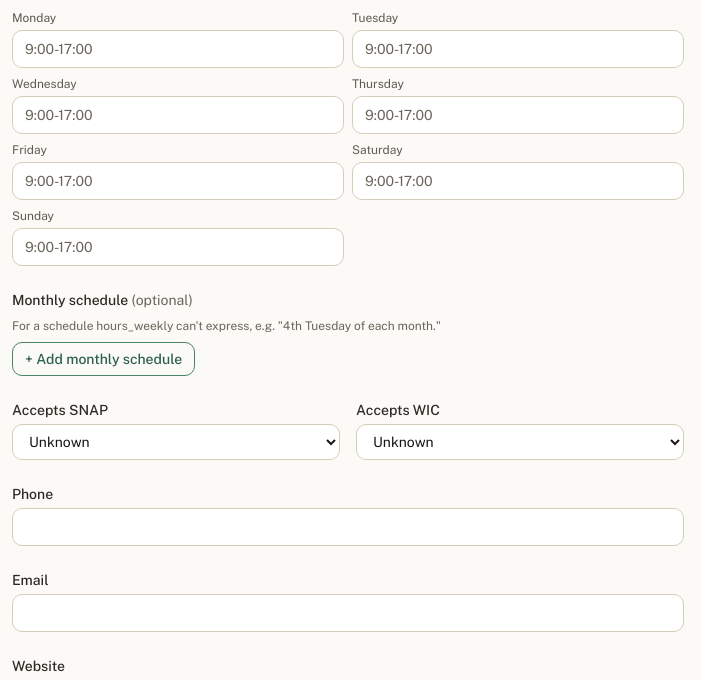
Test: AddVenueForm — monthly schedule fieldset › picking 'fixed day of the month' reveals a day-of-month input instead
(page scrolled)
Click the button "+ Add monthly schedule".
click(104, 359)  # box [12,342,195,376]
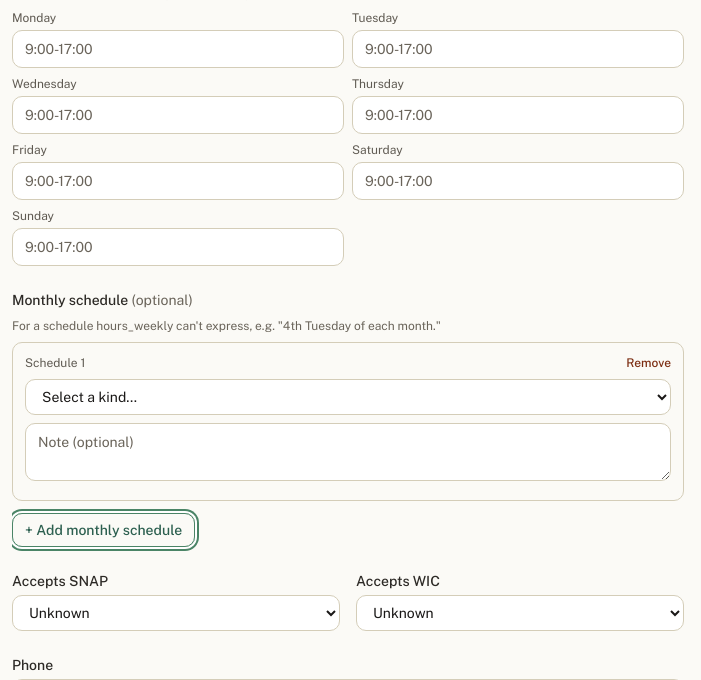
Select "A fixed day of the month (e.g. the 15th)" in the dropdown labelled "Schedule 1" at {"x": 348, "y": 397}, box [25,379,671,415]
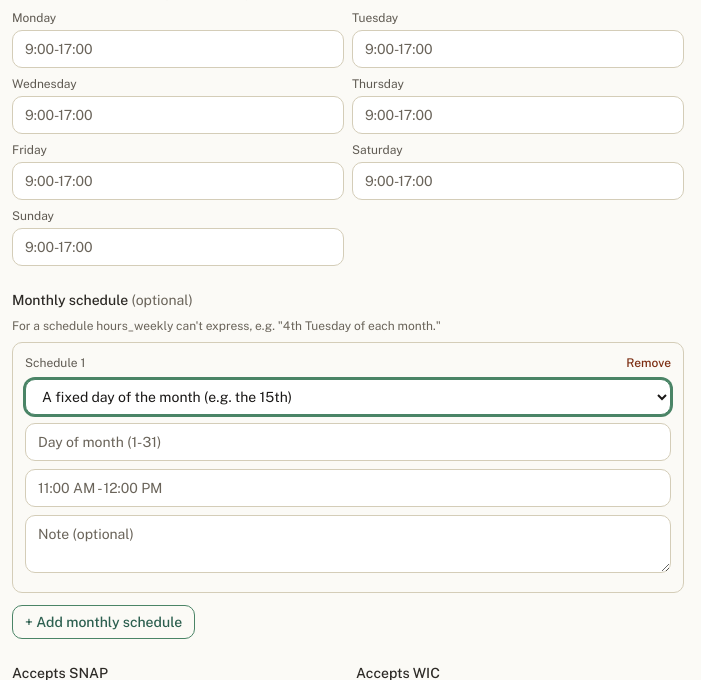
Check: the number field named "Schedule 1 day of month" is shown, box [25,423,671,461]
